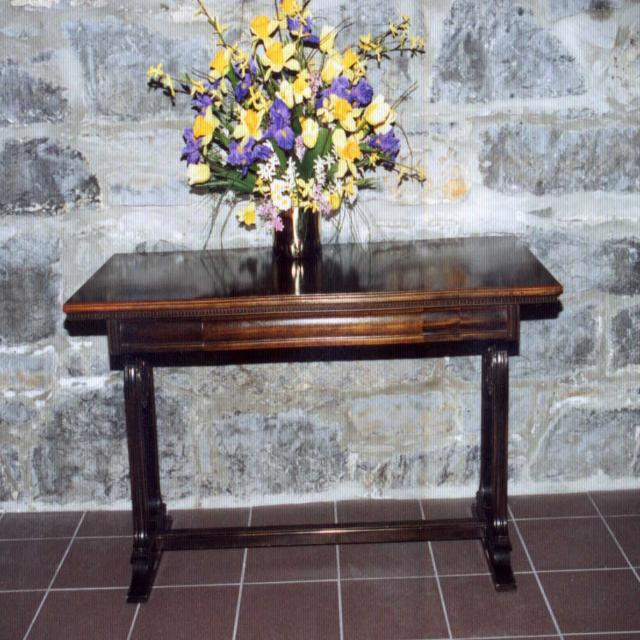table: (63, 236, 562, 604)
